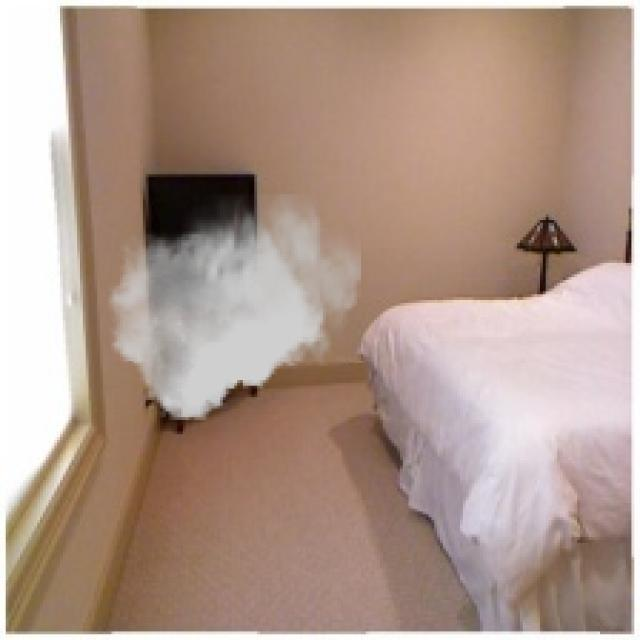Smoke: (108, 194, 360, 420)
